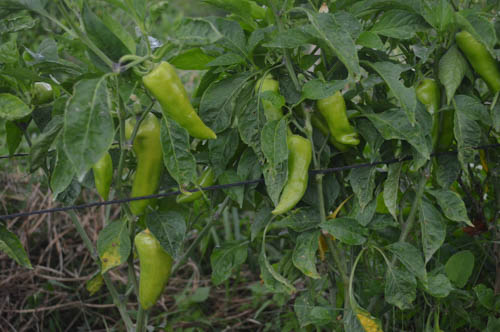ChiliPepper: (142, 61, 215, 142), (125, 118, 166, 217), (277, 134, 310, 221), (136, 230, 169, 311), (320, 88, 359, 149), (453, 32, 494, 84), (412, 82, 436, 157), (257, 77, 287, 135), (92, 160, 108, 205)
